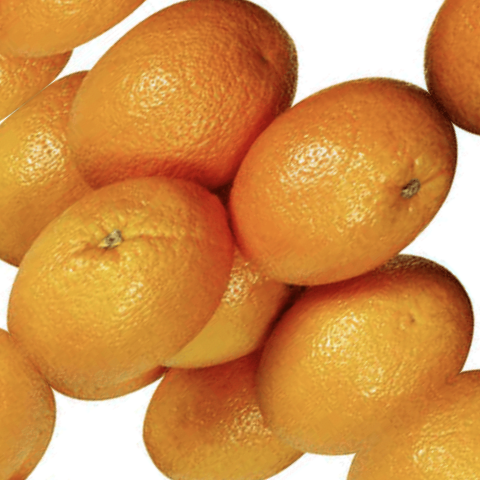orange: (189, 34, 480, 339), (16, 0, 348, 266), (0, 129, 271, 432), (210, 224, 480, 480)
